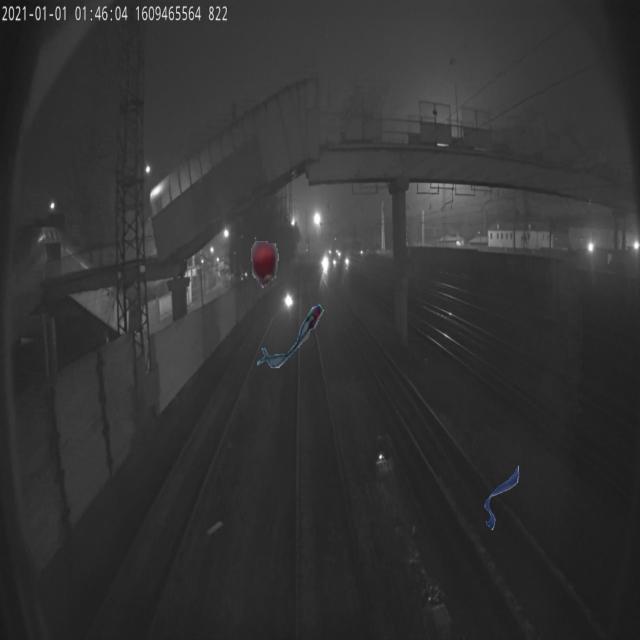balloon: (244, 236, 283, 300)
floating object: (257, 304, 324, 368), (484, 466, 519, 530)
